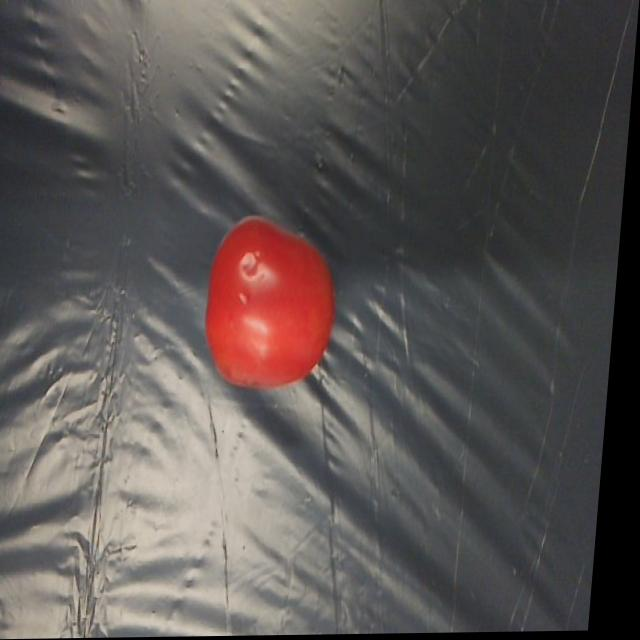kirmizi: (182, 188, 365, 428)
